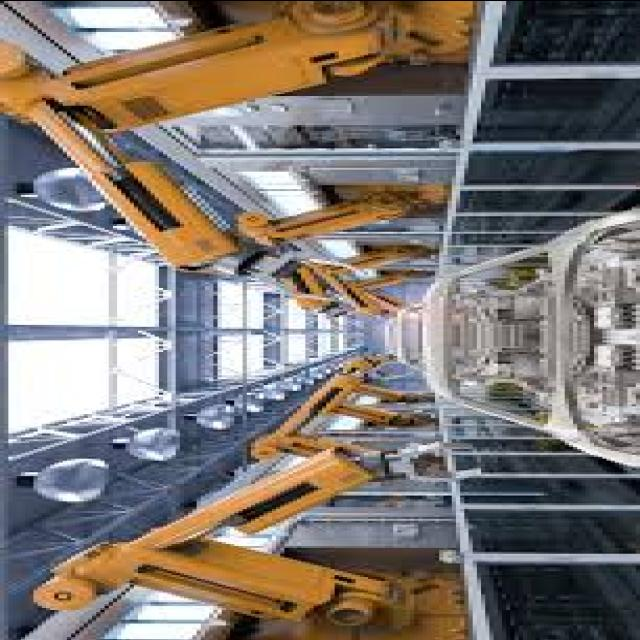Robotic-arm: (0, 0, 471, 276), (18, 446, 472, 638), (175, 184, 463, 280), (247, 375, 434, 457), (267, 248, 431, 312)
